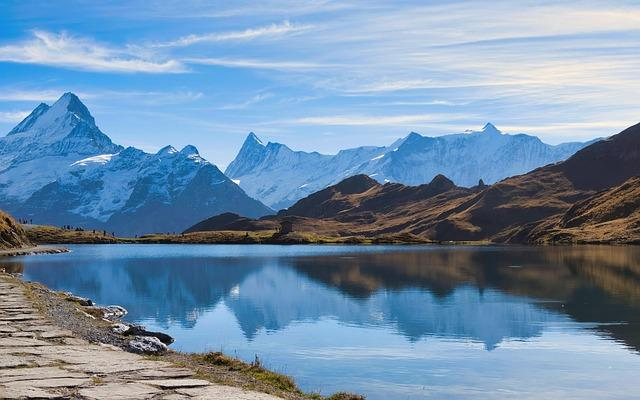Non_Gorille: (1, 0, 640, 400)
